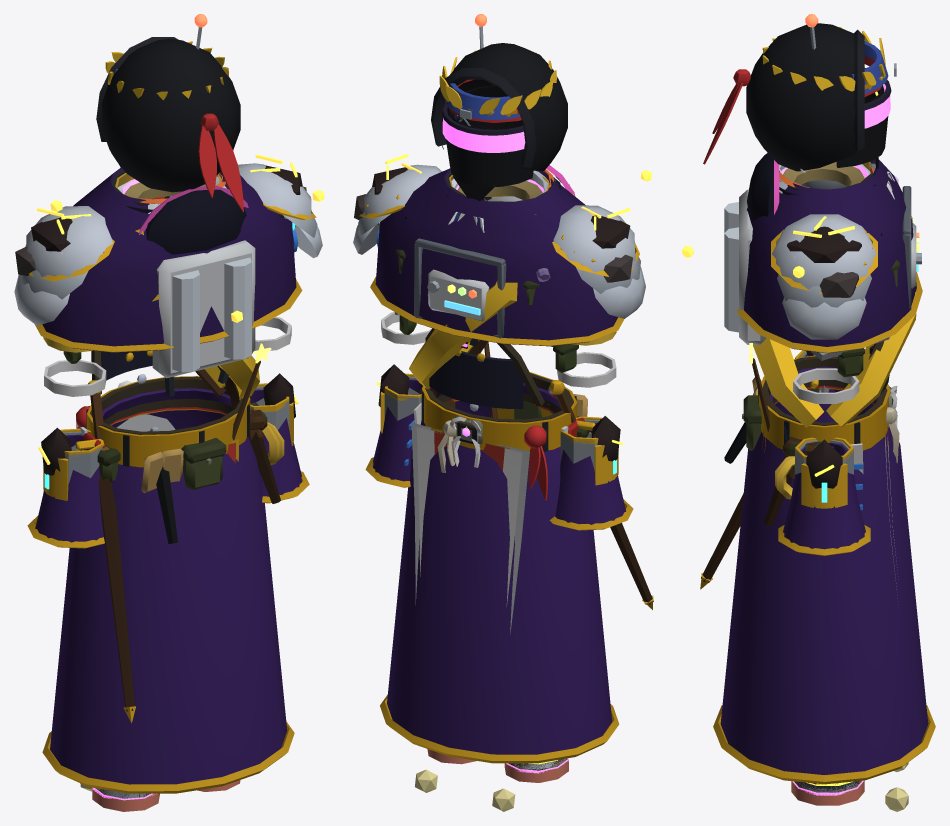
File: tenues_base_v001.glb
3 views of the same model, side by side, from view 1: azimuth 30°, elevation 25°; view 2: azimuth 150°, elevation 25°; view 3: azimuth 270°, elevation 25° (orthographic). The views are drawn at different scales.
Visible parts, largest first — view 1: tenue_sorcier__bassin, tenue_sorcier__torse, tenue_ninja__tete, tenue_astronaute__torse, tenue_sweat2k27__torse, tenue_chevalier__epaule_G, tenue_camouflage__bassin, tenue_sorcier__coude_G, tenue_chevalier__bassin, tenue_statue__bassin, tenue_chevalier__epaule_D, tenue_sorcier__coude_D (+18 smaller); view 2: tenue_sorcier__bassin, tenue_sorcier__torse, tenue_ninja__tete, tenue_chevalier__epaule_G, tenue_cuisinier__bassin, tenue_sweat2k27__torse, tenue_sorcier__coude_G, tenue_statue__bassin, tenue_astronaute__torse, tenue_statue__torse, tenue_chevalier__epaule_D, tenue_camouflage__torse (+19 smaller); view 3: tenue_sorcier__bassin, tenue_ninja__tete, tenue_sorcier__torse, tenue_chevalier__epaule_D, tenue_statue__torse, tenue_sorcier__coude_D, tenue_astronaute__torse, tenue_statue__bassin, tenue_lave__epaule_D, tenue_camouflage__bassin, tenue_camouflage__torse, tenue_chevalier__coude_D (+13 smaller).
Boxes of the visible parts, left/top/right/bottom form: tenue_sorcier__bassin: left=42, top=343, right=294, bottom=793; tenue_sorcier__torse: left=35, top=168, right=302, bottom=352; tenue_ninja__tete: left=96, top=37, right=243, bottom=212; tenue_astronaute__torse: left=117, top=173, right=255, bottom=378; tenue_sweat2k27__torse: left=101, top=185, right=248, bottom=380; tenue_chevalier__epaule_G: left=14, top=206, right=114, bottom=325; tenue_camouflage__bassin: left=85, top=376, right=267, bottom=490; tenue_sorcier__coude_G: left=27, top=434, right=104, bottom=548; tenue_chevalier__bassin: left=75, top=380, right=239, bottom=723; tenue_statue__bassin: left=86, top=376, right=250, bottom=467; tenue_chevalier__epaule_D: left=238, top=163, right=322, bottom=258; tenue_sorcier__coude_D: left=249, top=389, right=309, bottom=503; tenue_sorcier__bassin: left=380, top=341, right=619, bottom=763; tenue_sorcier__torse: left=370, top=168, right=624, bottom=346; tenue_ninja__tete: left=431, top=43, right=567, bottom=201; tenue_chevalier__epaule_G: left=552, top=205, right=645, bottom=318; tenue_cuisinier__bassin: left=404, top=403, right=529, bottom=633; tenue_sweat2k27__torse: left=429, top=165, right=575, bottom=409; tenue_sorcier__coude_G: left=549, top=423, right=633, bottom=530; tenue_statue__bassin: left=422, top=372, right=577, bottom=451; tenue_astronaute__torse: left=394, top=169, right=555, bottom=321; tenue_statue__torse: left=409, top=194, right=574, bottom=389; tenue_chevalier__epaule_D: left=353, top=164, right=441, bottom=254; tenue_camouflage__torse: left=395, top=181, right=578, bottom=406; tenue_sorcier__bassin: left=713, top=343, right=935, bottom=784; tenue_ninja__tete: left=703, top=23, right=896, bottom=171; tenue_sorcier__torse: left=737, top=158, right=922, bottom=353; tenue_chevalier__epaule_D: left=771, top=214, right=877, bottom=339; tenue_statue__torse: left=753, top=216, right=916, bottom=427; tenue_sorcier__coude_D: left=778, top=442, right=870, bottom=555; tenue_astronaute__torse: left=724, top=164, right=921, bottom=360; tenue_statue__bassin: left=758, top=355, right=890, bottom=450; tenue_lave__epaule_D: left=787, top=216, right=861, bottom=297; tenue_camouflage__bassin: left=742, top=356, right=893, bottom=477; tenue_camouflage__torse: left=783, top=162, right=899, bottom=377; tenue_chevalier__coude_D: left=795, top=437, right=853, bottom=508.
Bounding box in the file's own units: 0.7834 × 2.04 × 0.5946.
